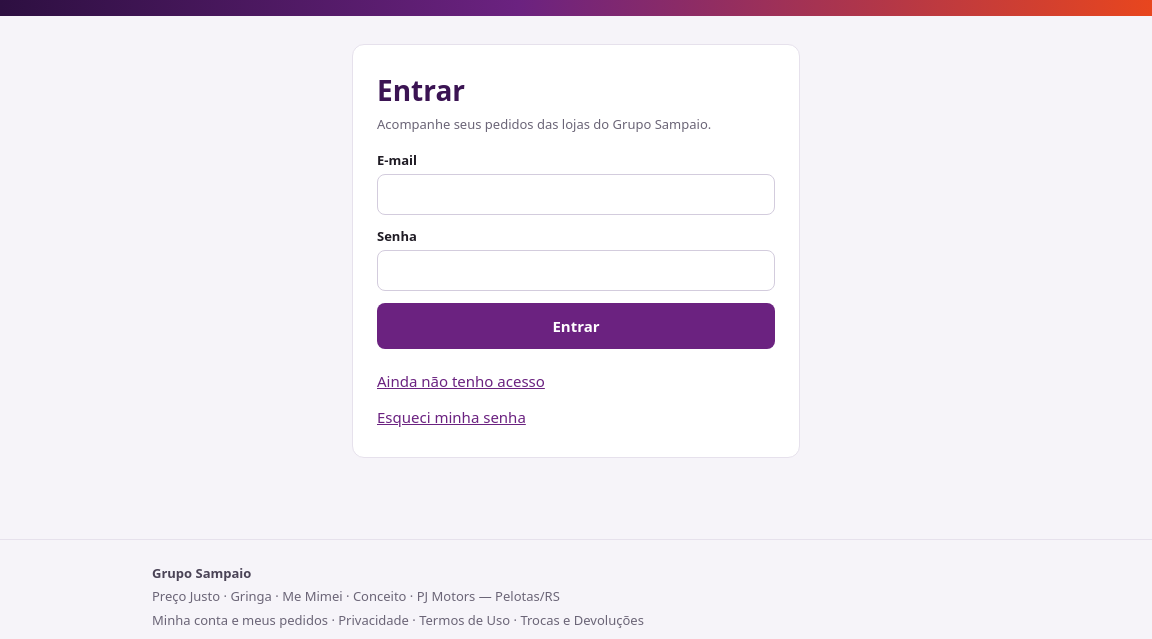
Test: GAP-PRD-192 — criar conta › senha das mais usadas: a recusa do servidor aparece com as palavras dele
Click the button "Ainda não tenho acesso" at (461, 381), box 377,365 -> 545,397
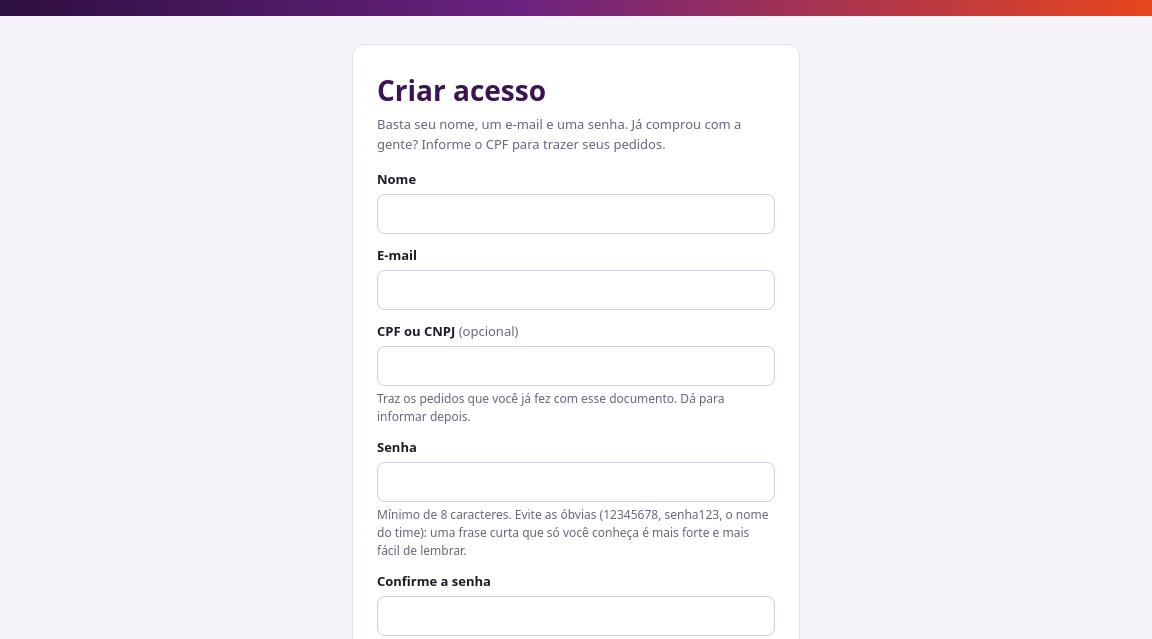
Type "Ana Souza" into the field labelled "Nome" at (576, 214), box 377,194 -> 775,234
Type "ana@exemplo.com" into the field labelled "E-mail" at (576, 290), box 377,270 -> 775,310
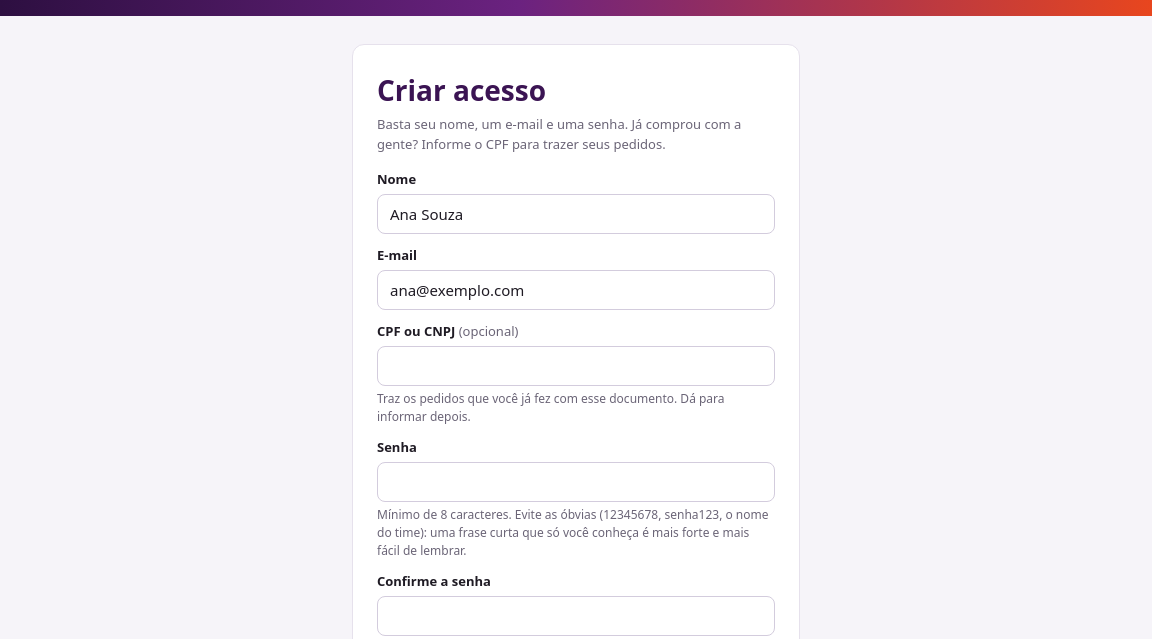
Type "senha123" into the password field labelled "Senha" at (576, 482), box 377,462 -> 775,502
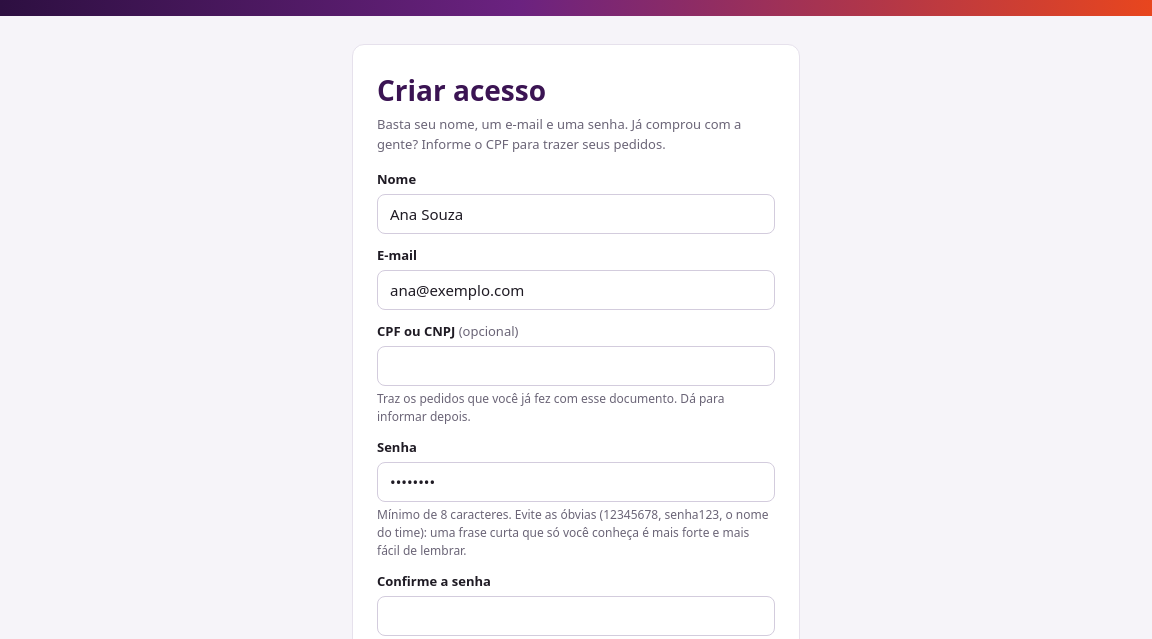
Type "senha123" into the password field labelled "Confirme a senha" at (576, 616), box 377,596 -> 775,636
(page scrolled)
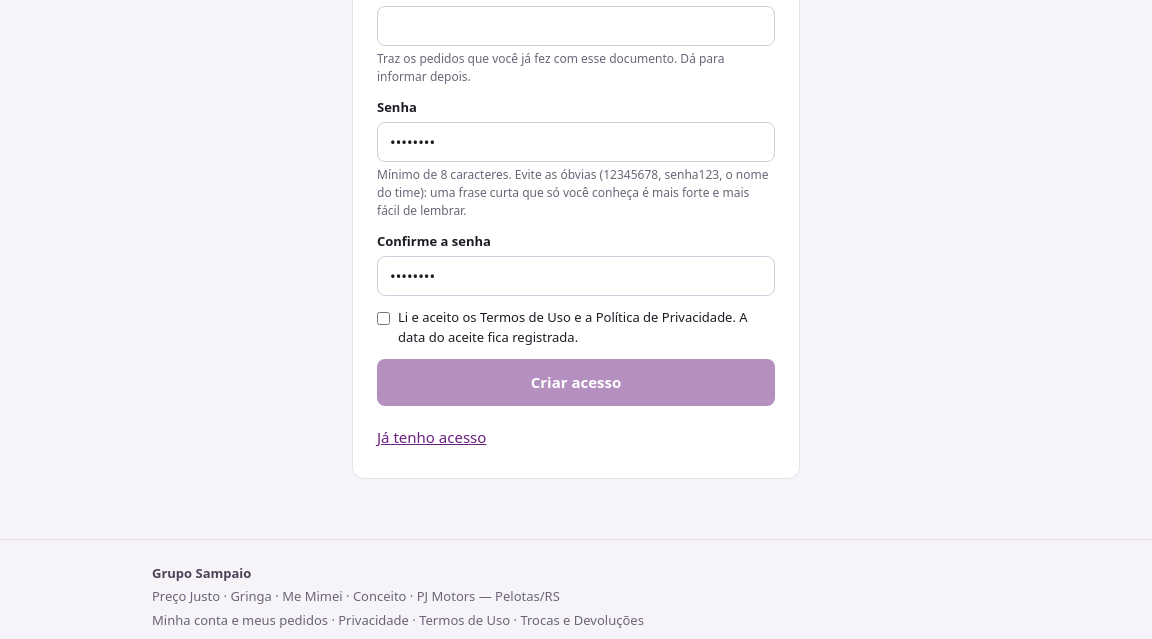
Click the checkbox named "Aceito os termos e a política de privacidade" at (384, 318), box 377,312 -> 390,325
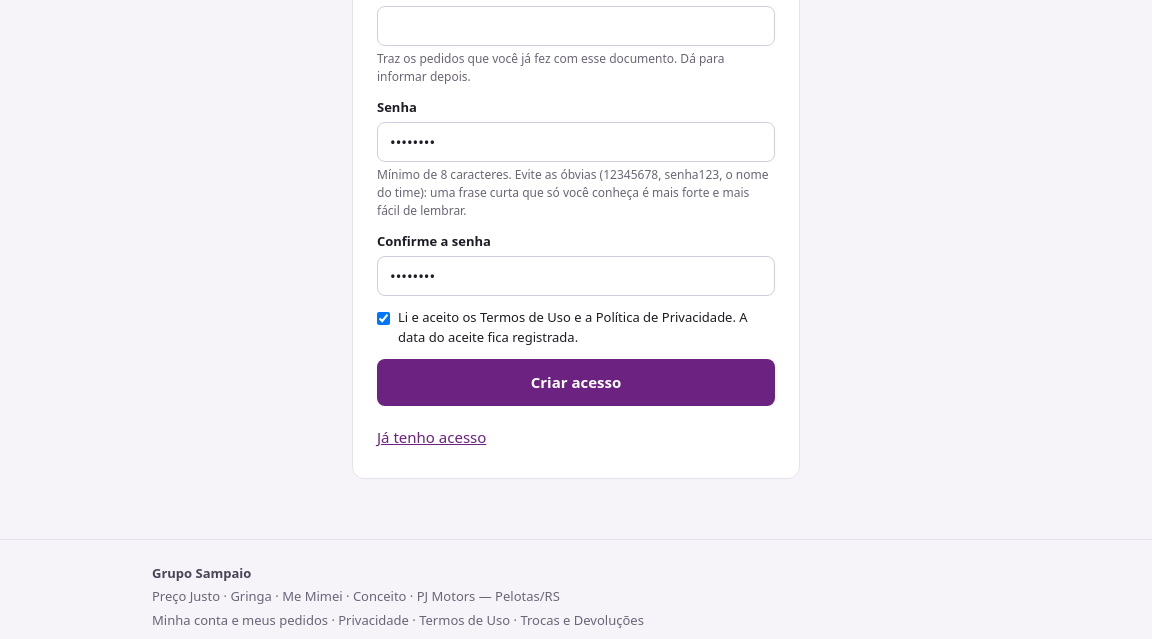
Click the button "Criar acesso" at (576, 382), box 377,359 -> 775,406
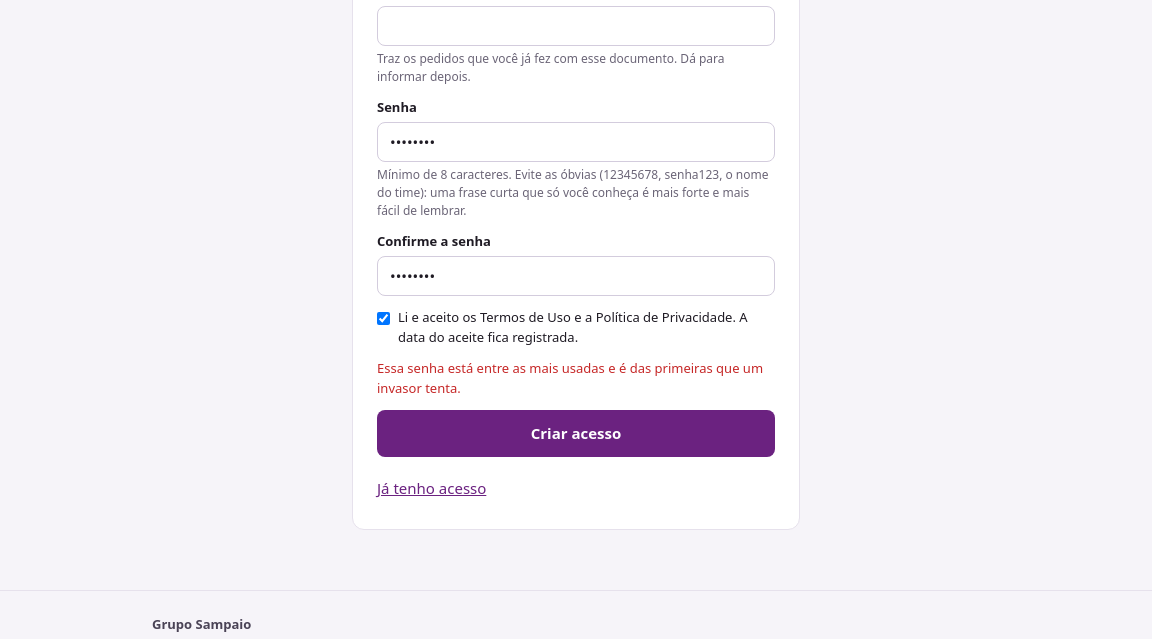
Now the text "Essa senha está entre as mais usadas e é das primeiras que um invasor tenta." is shown, box 377,359 -> 775,398
